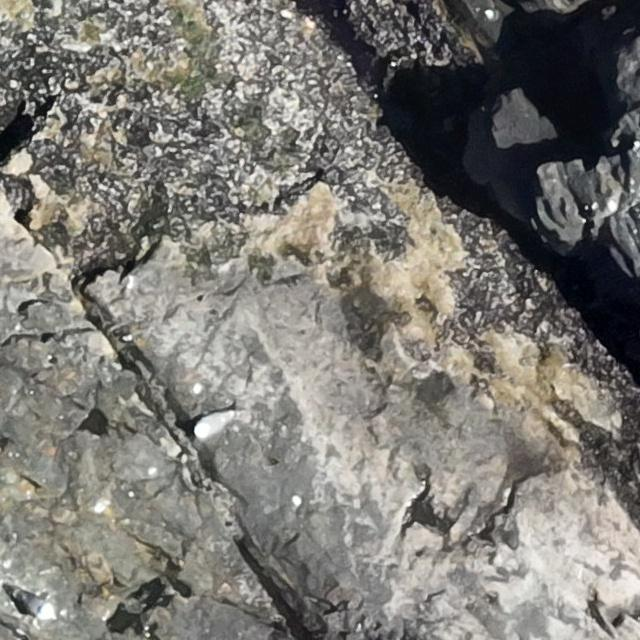umineko: (195, 412, 228, 435), (16, 592, 48, 615)
